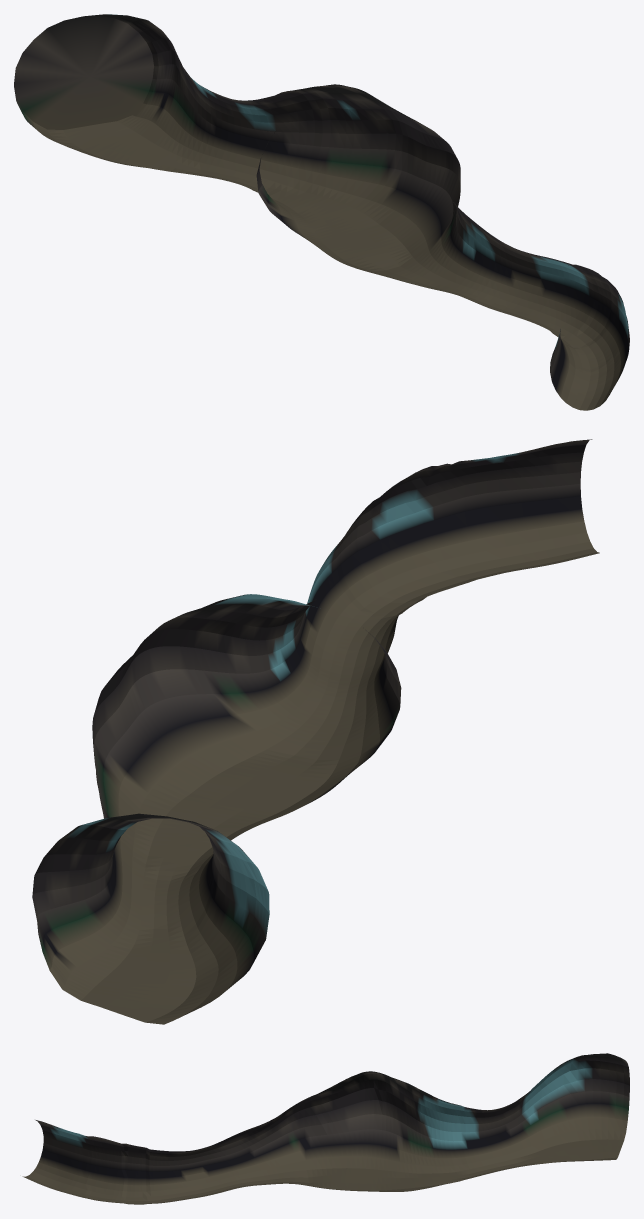
The model's file is cave_echo_grotto_shell.glb.
3 renders of one model, top to bottom at view 1: azimuth 30°, elevation 25°; view 2: azimuth 150°, elevation 25°; view 3: azimuth 270°, elevation 25°, orthographic. The views are drawn at different scales.
Visible parts, largest first — view 1: geometry_0; view 2: geometry_0; view 3: geometry_0.
Boxes of the visible parts, x1=… form: geometry_0: x1=14, y1=14, x2=629, y2=410; geometry_0: x1=32, y1=439, x2=599, y2=1024; geometry_0: x1=22, y1=1053, x2=629, y2=1204.
Size of the model in its own units: 67.8 by 35.43 by 197.
